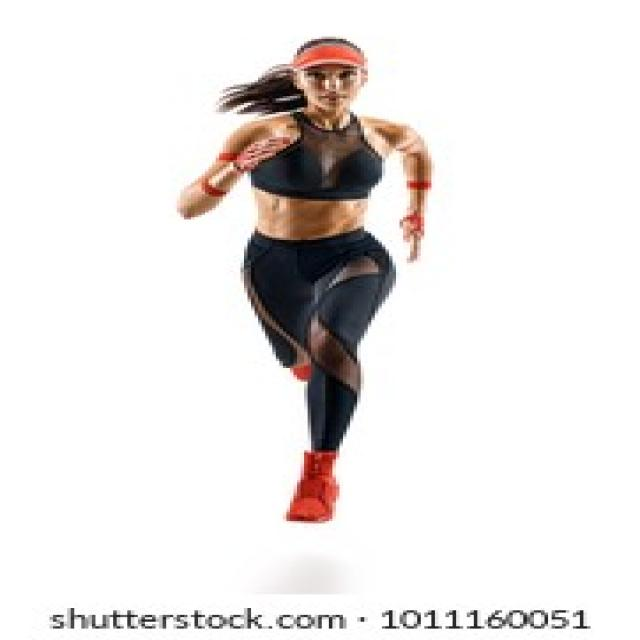running: (177, 35, 441, 526)
